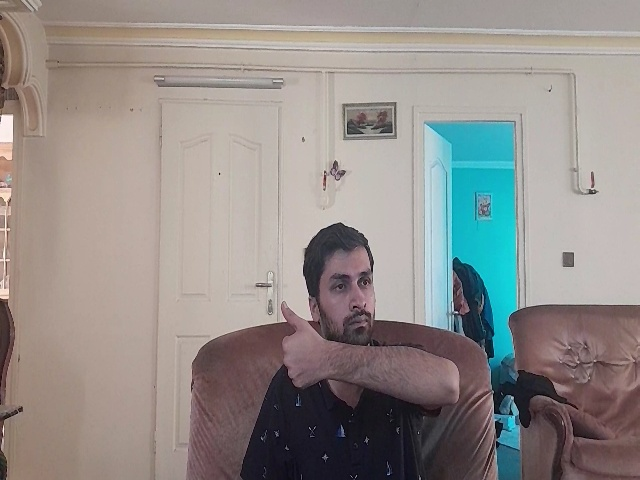ThumbsUp: (279, 301, 331, 390)
